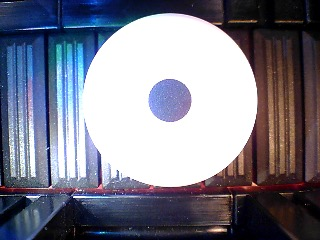BOHO: (81, 12, 258, 187)
